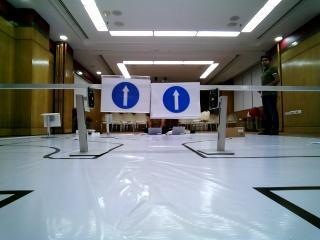straight: (152, 81, 200, 117), (103, 74, 149, 110)
